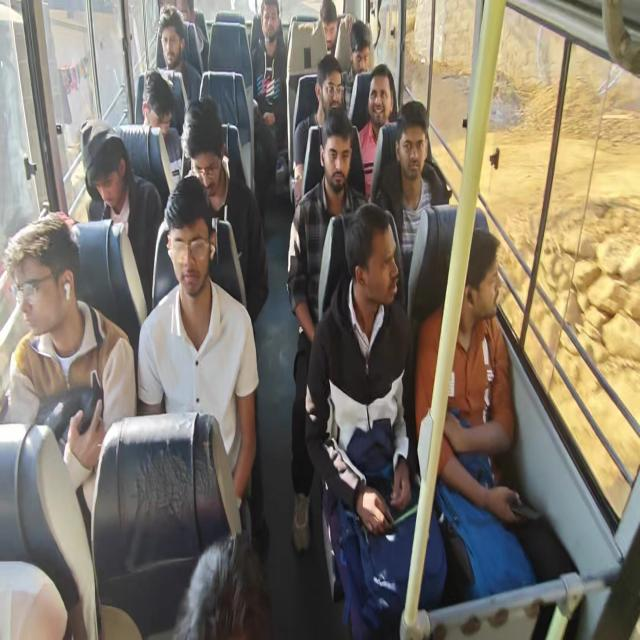person: (12, 231, 81, 329), (162, 195, 214, 303), (347, 213, 402, 314), (184, 116, 228, 210), (83, 139, 131, 210), (457, 246, 500, 323), (394, 114, 426, 177), (159, 19, 190, 83), (143, 76, 171, 146), (319, 129, 351, 188), (319, 64, 344, 115), (314, 0, 340, 47), (366, 74, 390, 123), (254, 0, 281, 43), (346, 26, 368, 74), (168, 0, 197, 31)
